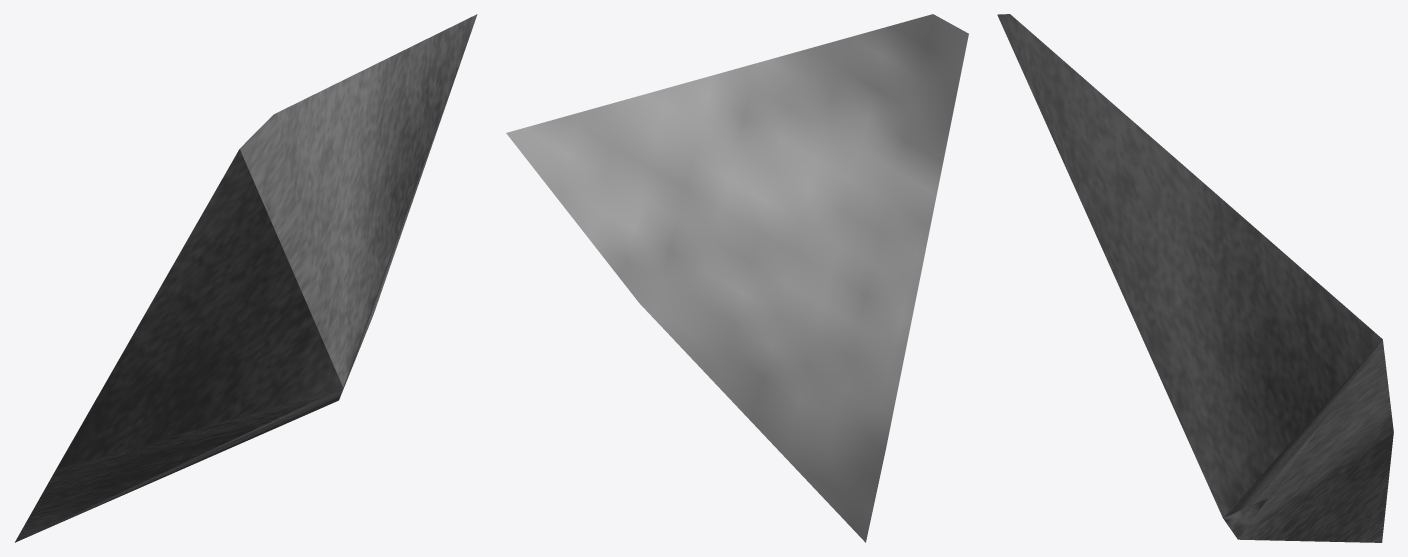
Rendered from body_cell_009.fbx.
The picture shows the model from 3 angles, left to right: view 1: azimuth 30°, elevation 25°; view 2: azimuth 150°, elevation 25°; view 3: azimuth 270°, elevation 25°; orthographic projection. The views are drawn at different scales.
Visible parts, largest first — view 1: body_cell.009; view 2: body_cell.009; view 3: body_cell.009.
Part boxes in pixels (box(x1,y1,x2,y2)): body_cell.009: box(15, 14, 477, 542); body_cell.009: box(506, 14, 968, 542); body_cell.009: box(997, 14, 1393, 542).
Bounding box in the file's own units: 11.52 × 12.69 × 7.94.
